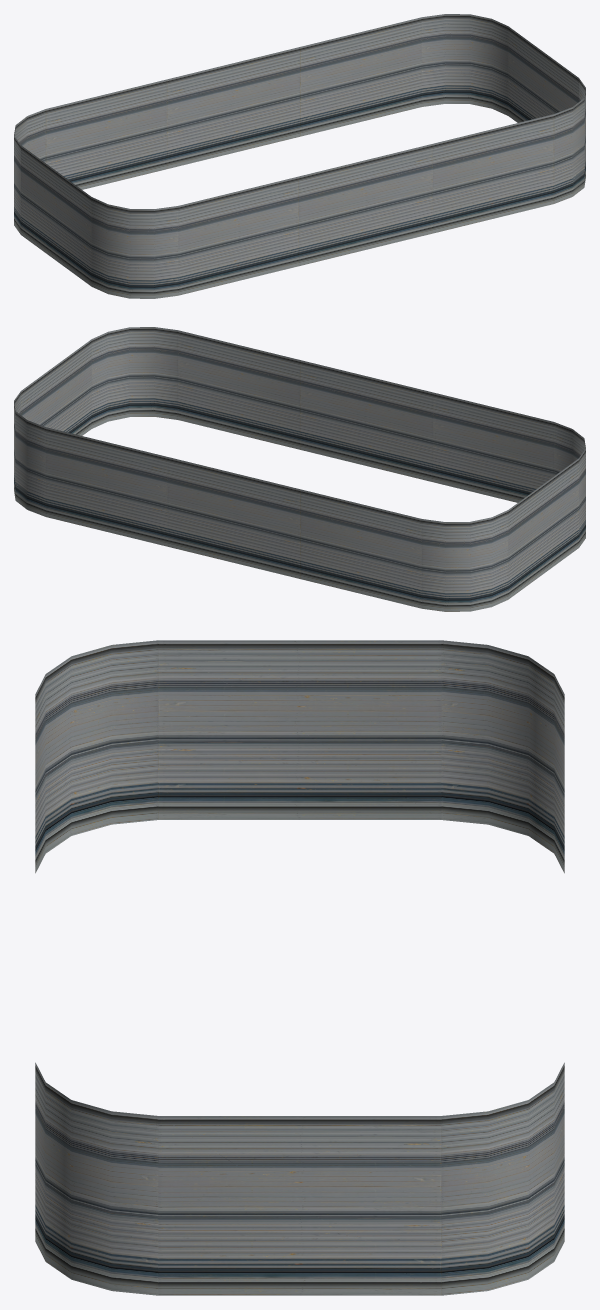
File: rural_diner_2_rural_trailer_stuff_1_0.glb
The picture shows the model from 3 angles, top to bottom: view 1: azimuth 30°, elevation 25°; view 2: azimuth 150°, elevation 25°; view 3: azimuth 270°, elevation 25°; orthographic projection. The views are drawn at different scales.
Parts seen in each view (by area): view 1: Rural_Diner_2_Rural_Trailer_Stuff_1_0; view 2: Rural_Diner_2_Rural_Trailer_Stuff_1_0; view 3: Rural_Diner_2_Rural_Trailer_Stuff_1_0.
Part boxes in pixels (x1,y1,x2,y2): Rural_Diner_2_Rural_Trailer_Stuff_1_0: (14,14,585,298); Rural_Diner_2_Rural_Trailer_Stuff_1_0: (14,327,585,611); Rural_Diner_2_Rural_Trailer_Stuff_1_0: (35,640,564,1295).
Size of the model in its own units: 10.86 by 1.91 by 5.11.
1 material, 1 textured.
